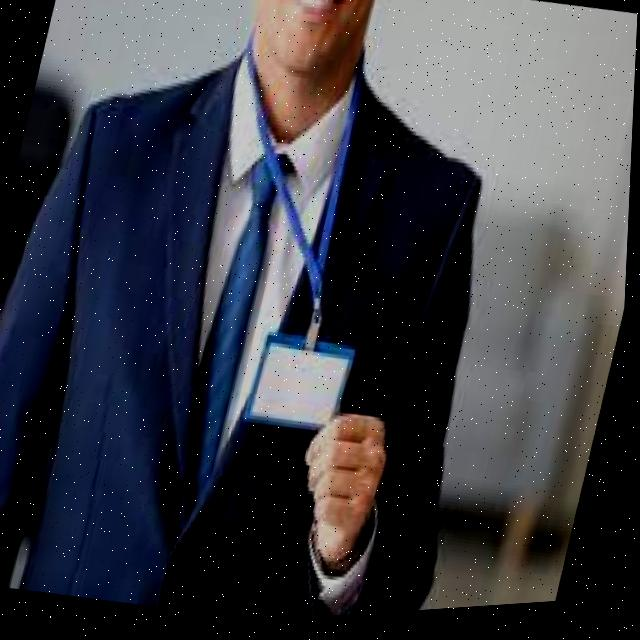id_card: (164, 41, 430, 457)
